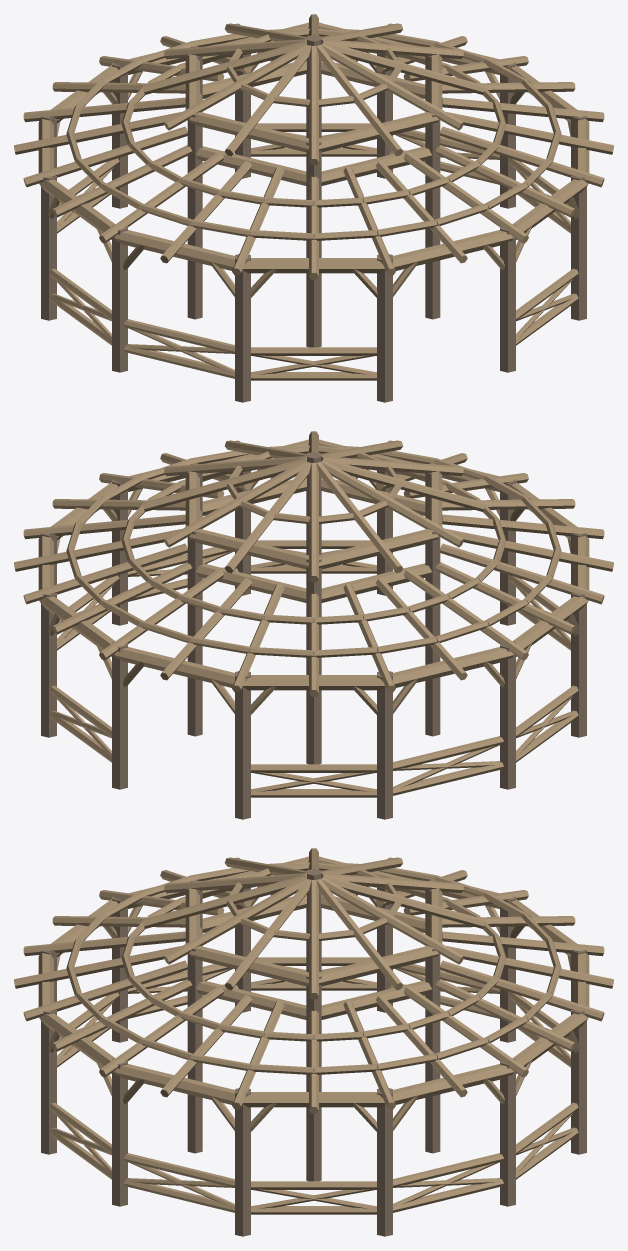
File: nyc-cop-cot.glb
3 views of the same model, one above another, from view 1: azimuth 30°, elevation 25°; view 2: azimuth 150°, elevation 25°; view 3: azimuth 270°, elevation 25° (orthographic).
Parts seen in each view (by area): view 1: Cop Cot; view 2: Cop Cot; view 3: Cop Cot.
Boxes of the visible parts, x1=… form: Cop Cot: x1=14, y1=14, x2=613, y2=402; Cop Cot: x1=14, y1=431, x2=613, y2=819; Cop Cot: x1=14, y1=848, x2=613, y2=1236.
Bounding box in the file's own units: 10.93 × 5 × 10.93.
